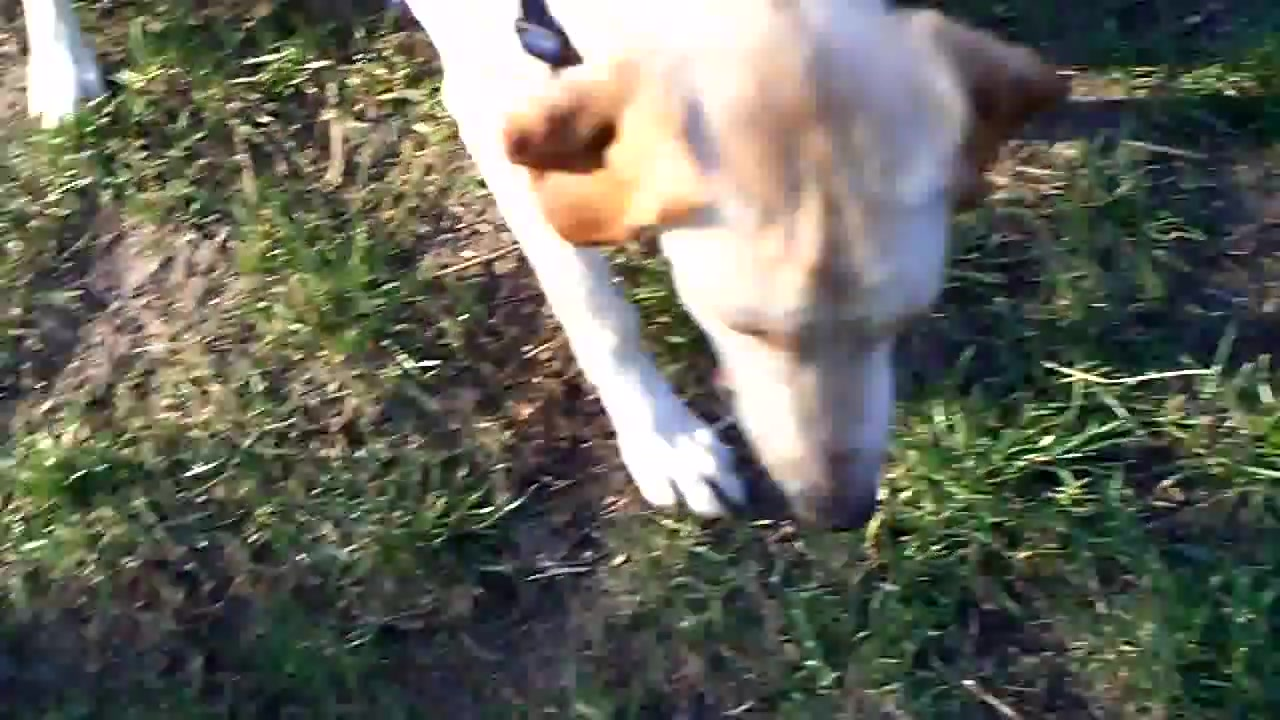dog: (23, 1, 1072, 534)
